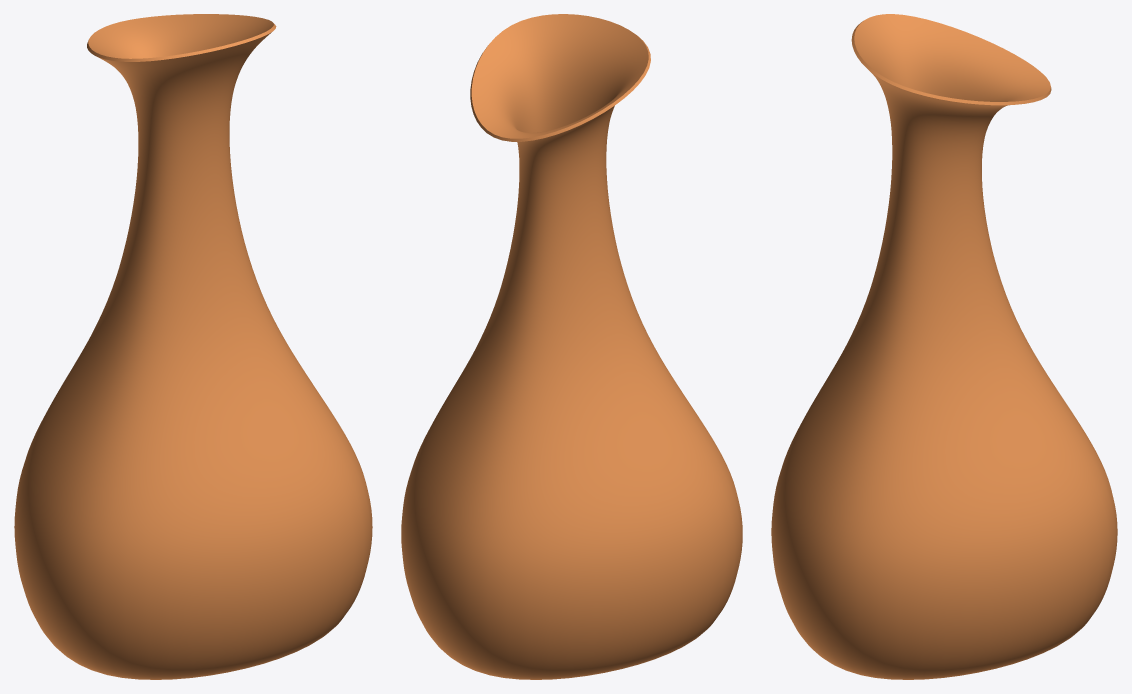
File: florero.glb
3 views of the same model, side by side, from view 1: azimuth 30°, elevation 25°; view 2: azimuth 150°, elevation 25°; view 3: azimuth 270°, elevation 25° (orthographic). The views are drawn at different scales.
Visible parts, largest first — view 1: Circle.002; view 2: Circle.002; view 3: Circle.002.
Boxes of the visible parts, box(x1,y1,x2,y2) form: Circle.002: box(14, 14, 372, 679); Circle.002: box(401, 14, 742, 679); Circle.002: box(771, 14, 1117, 679).
Bounding box in the file's own units: 1.05 × 1.97 × 1.05.
